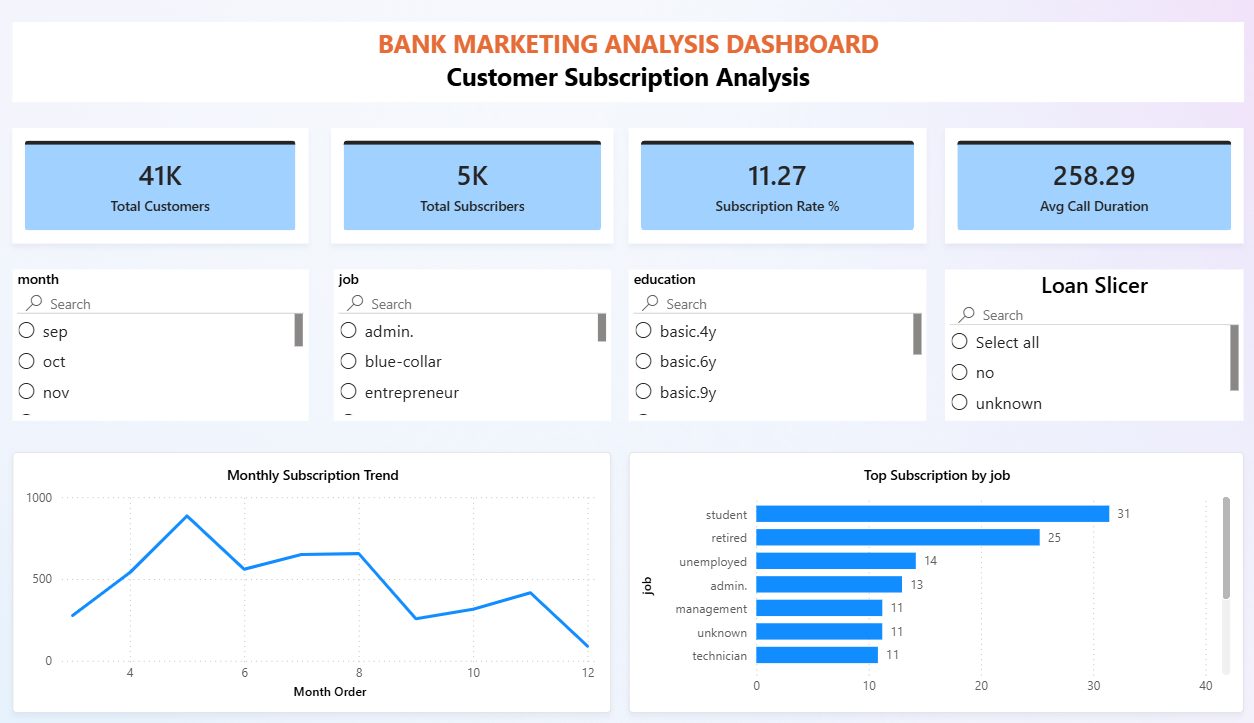

This screenshot's page, from the dashboard's own definition file:
{"tool":"powerbi","page":{"name":"Page 1","canvas":[1280,720],"ordinal":0},"visuals":[{"type":"cardVisual","fields":{"Data":["bankmarketing.Total Customers"]},"box":[51.4,133.3,289.8,112.5],"z":0},{"type":"cardVisual","fields":{"Data":["bankmarketing.Total Subscribers"]},"box":[363.2,133.3,276.4,112.5],"z":1000},{"type":"cardVisual","fields":{"Data":["bankmarketing.Subscription Rate %"]},"box":[654.2,133.3,291,112.5],"z":2000},{"type":"cardVisual","fields":{"Data":["bankmarketing.Avg Call Duration"]},"box":[963.6,133.3,292.3,112.5],"z":3000},{"type":"listSlicer","title":"Loan Slicer","fields":{"Values":["bankmarketing.loan"]},"box":[963.6,271.5,292.3,148],"z":4000},{"type":"lineChart","title":"Monthly Subscription Trend","fields":{"Category":["bankmarketing.Month Order"],"Y":["bankmarketing.Total Subscribers"]},"box":[51.4,450,585.7,255.6],"z":5000},{"type":"textbox","box":[51.4,29.3,1204.5,78.3],"z":6000},{"type":"listSlicer","fields":{"Values":["bankmarketing.job"]},"box":[365.6,271.5,271.5,148],"z":7000},{"type":"listSlicer","fields":{"Values":["bankmarketing.month"]},"box":[51.4,271.5,289.8,148],"z":8000},{"type":"listSlicer","fields":{"Values":["bankmarketing.education"]},"box":[654.2,271.5,291,148],"z":9000},{"type":"clusteredBarChart","title":"Top Subscription by job","fields":{"Category":["bankmarketing.job"],"Y":["bankmarketing.Subscription Rate by Job"]},"box":[654.2,450,601.6,255.6],"z":10000}]}

Visuals, with their boxes in screenshot pixels (x1, y1, x2, y2), scaled from the page's 1280x720 canvas onto the 1254x723 screenshot:
cardVisual - bankmarketing.Total Customers: rect(50, 134, 334, 247)
cardVisual - bankmarketing.Total Subscribers: rect(356, 134, 627, 247)
cardVisual - bankmarketing.Subscription Rate %: rect(641, 134, 926, 247)
cardVisual - bankmarketing.Avg Call Duration: rect(944, 134, 1230, 247)
"Loan Slicer" listSlicer: rect(944, 273, 1230, 421)
"Monthly Subscription Trend" lineChart: rect(50, 452, 624, 709)
textbox: rect(50, 29, 1230, 108)
listSlicer - bankmarketing.job: rect(358, 273, 624, 421)
listSlicer - bankmarketing.month: rect(50, 273, 334, 421)
listSlicer - bankmarketing.education: rect(641, 273, 926, 421)
"Top Subscription by job" clusteredBarChart: rect(641, 452, 1230, 709)
